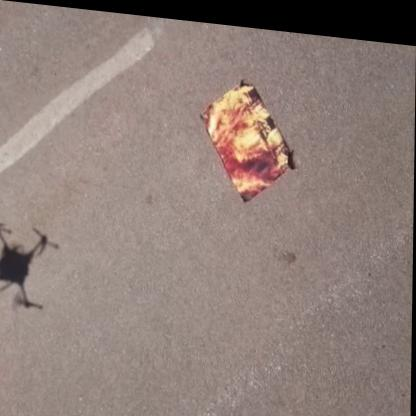fire-poster: (199, 68, 296, 202)
